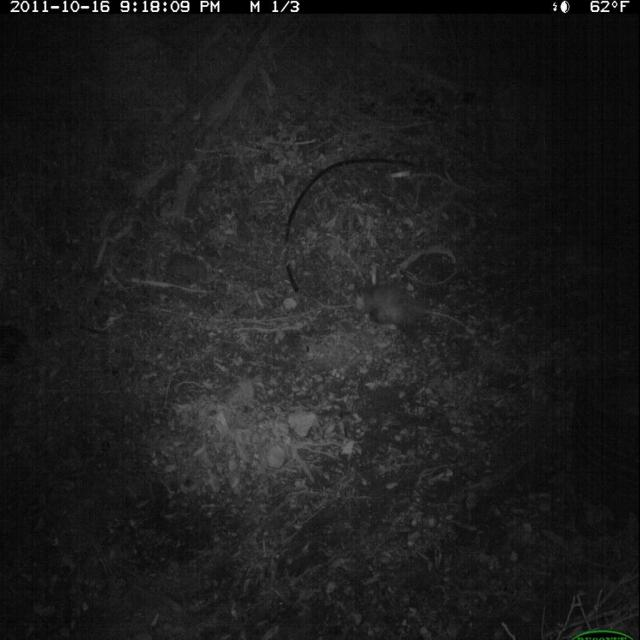opossum: (354, 275, 448, 349)
